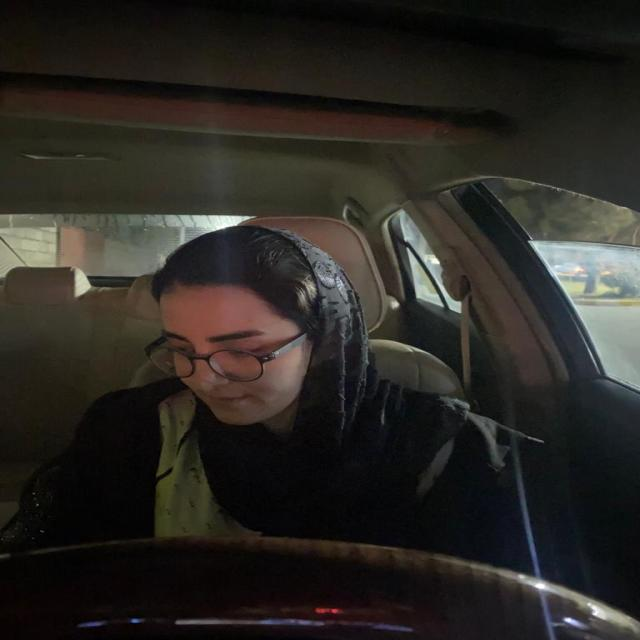person: (140, 214, 377, 445)
